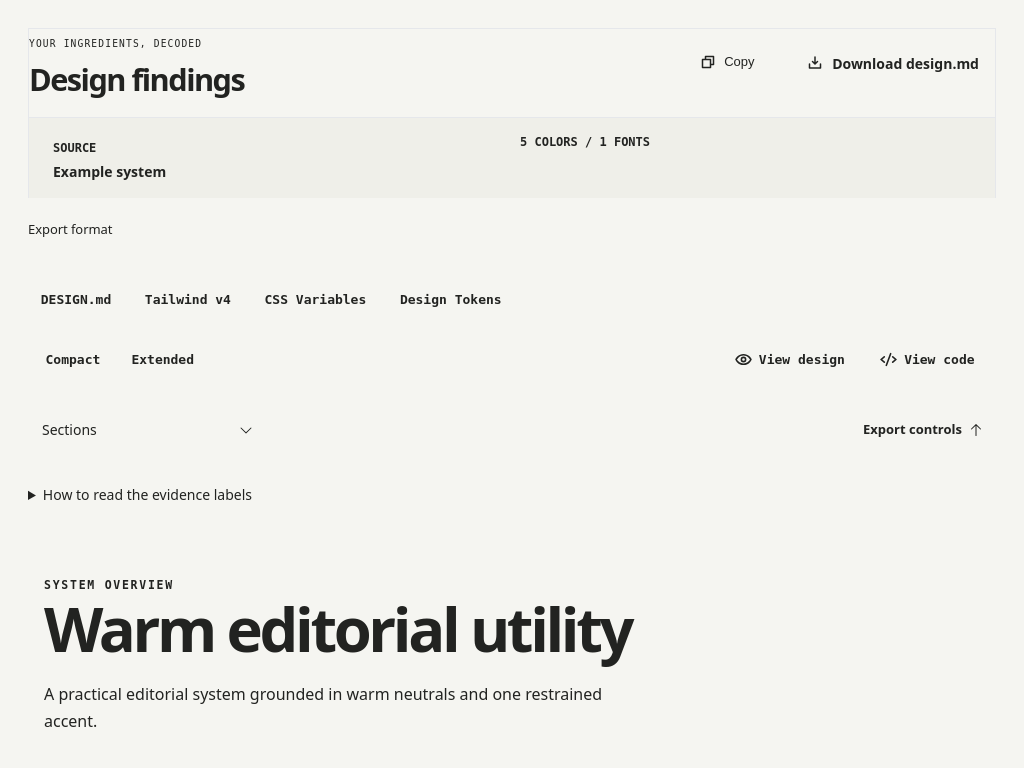
Test: ResultPanel experience › renders valid typography entries with missing dimensions without crashing
Click the button "View code" at (927, 360), box [858,338,996,382]
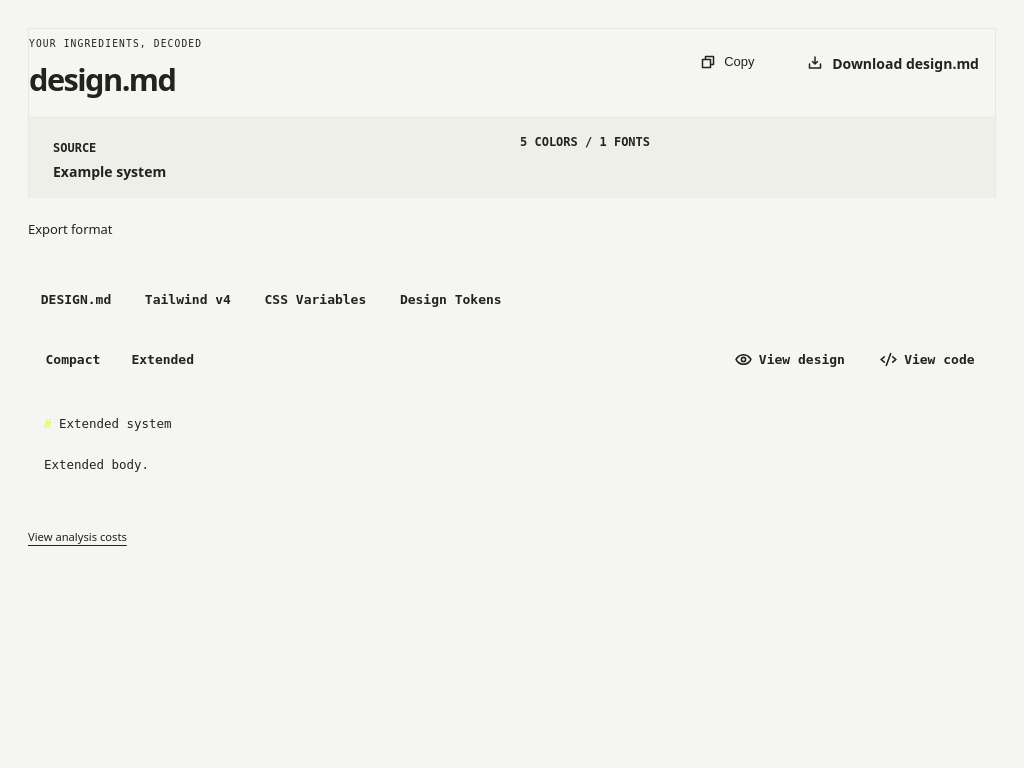
Result: the element named "DESIGN.md raw output" is shown at [44,416,172,472]
